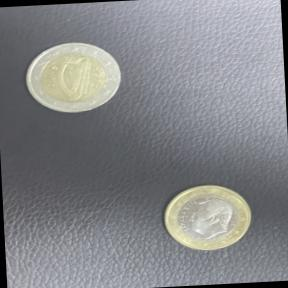1 Euro-B: (158, 179, 258, 258)
2 Euro-B: (20, 35, 127, 119)
